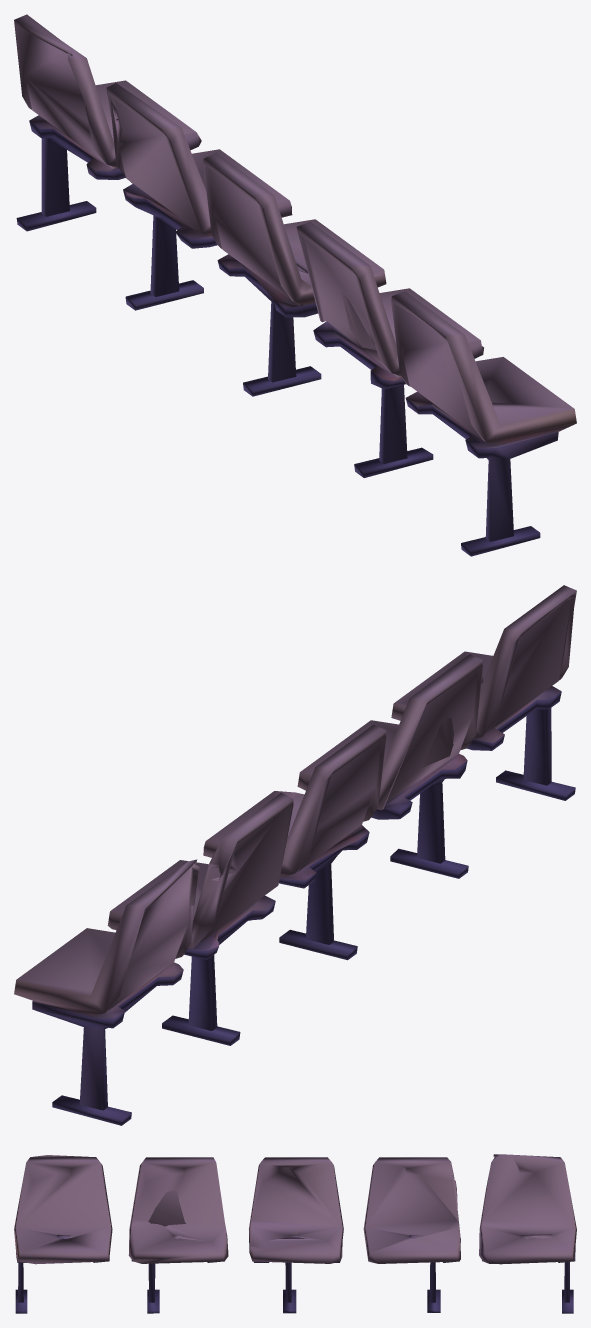
File: model.progressive.glb
The picture shows the model from 3 angles, top to bottom: view 1: azimuth 30°, elevation 25°; view 2: azimuth 150°, elevation 25°; view 3: azimuth 270°, elevation 25°; orthographic projection. The views are drawn at different scales.
Parts seen in each view (by area): view 1: StadiumSeat4; view 2: StadiumSeat4; view 3: StadiumSeat4.
Part boxes in pixels (bbox=[...]): StadiumSeat4: bbox=[14, 14, 576, 556]; StadiumSeat4: bbox=[14, 585, 576, 1125]; StadiumSeat4: bbox=[14, 1154, 576, 1313].
Bounding box in the file's own units: 0.3222 × 0.5105 × 1.9.
Materials: 1 (1 with a texture image).
